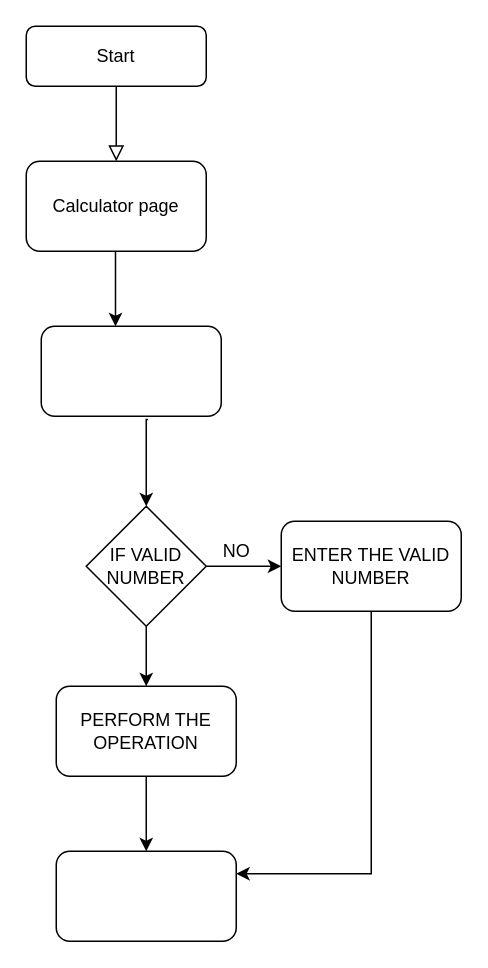
Image size: 488x968. Some labels were removed from this diagram. The centre of each missing label's shape, as x and y in pixels:
choose the option to perform operation: point 130,370
STOP: point 145,895
